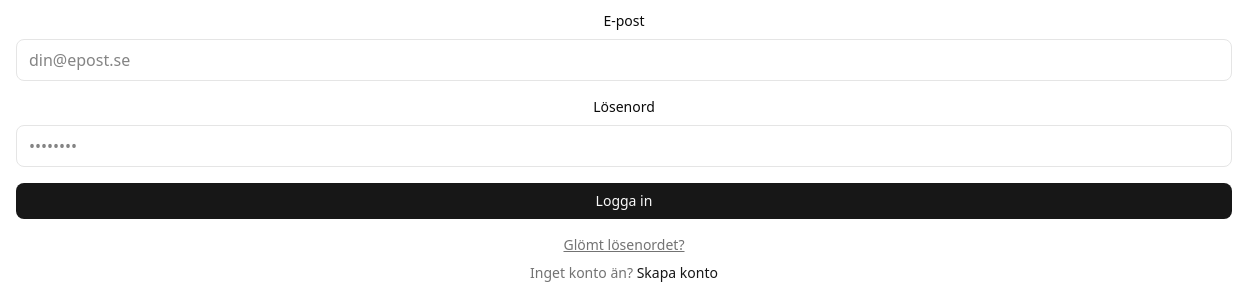
Test: LoginForm › Forgot Password Mode › should show forgot password form when clicking link
Step 1. Click the button "Glömt lösenordet?" → (624, 245), box [564,235,684,255]
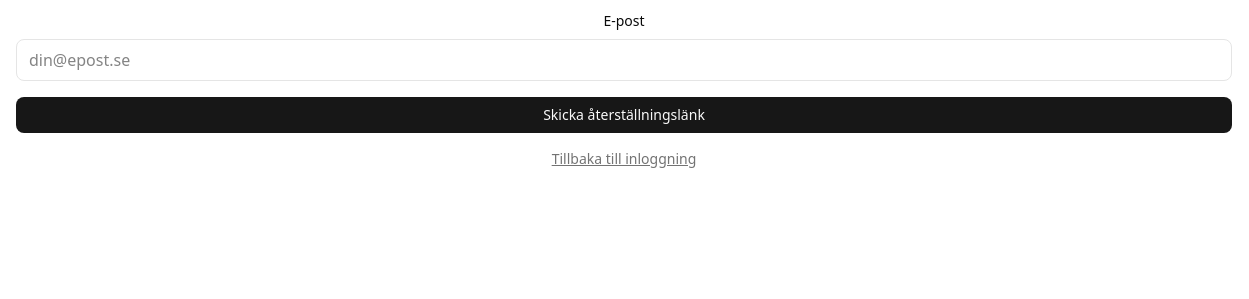
Now the button "Skicka återställningslänk" is shown, box [16,97,1232,133]
Now the label labelled "Lösenord" is gone
